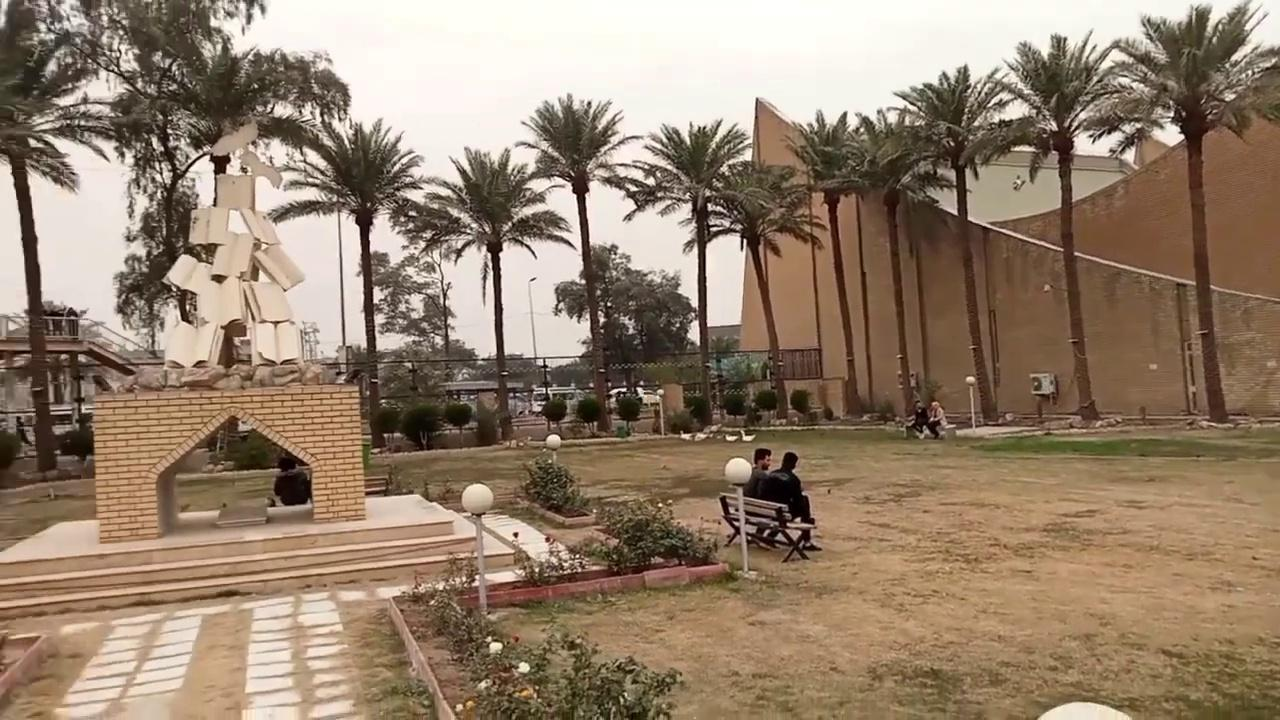person: (755, 451, 822, 551), (740, 447, 774, 539), (273, 456, 311, 506), (924, 400, 947, 439), (909, 400, 928, 438)
tree: (0, 0, 268, 473), (106, 29, 350, 361), (1090, 1, 1279, 423), (981, 28, 1136, 421), (0, 0, 121, 474), (266, 116, 425, 451), (406, 145, 576, 438), (889, 63, 1022, 425), (514, 92, 644, 433), (618, 117, 762, 424), (682, 160, 826, 422), (840, 106, 949, 419), (781, 108, 871, 417), (552, 243, 697, 404), (353, 246, 455, 407), (609, 264, 697, 365), (399, 403, 444, 449), (443, 399, 471, 447), (615, 393, 640, 434), (575, 394, 601, 433), (540, 396, 567, 432), (788, 387, 812, 423)
